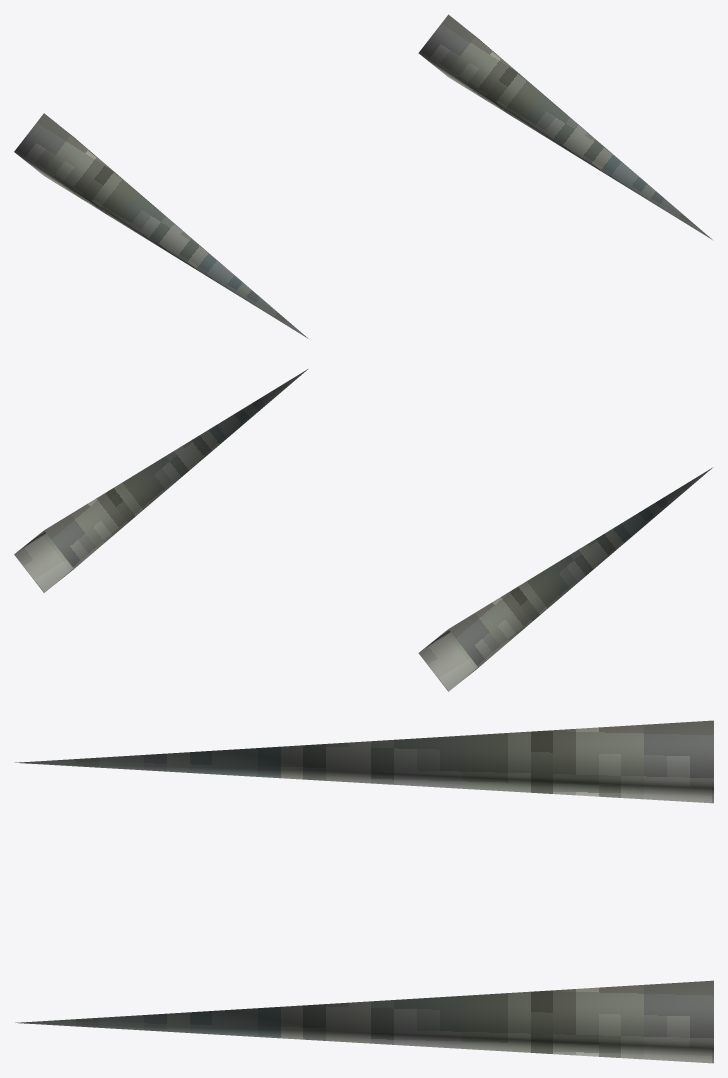
Rendered from hutt_fighter_heavy_weapon1_s01_l2.fbx.
3 renders of one model, top to bottom at view 1: azimuth 30°, elevation 25°; view 2: azimuth 150°, elevation 25°; view 3: azimuth 270°, elevation 25°, orthographic. The views are drawn at different scales.
Visible parts, largest first — view 1: mesh_node; view 2: mesh_node; view 3: mesh_node.
Boxes of the visible parts, x1=… form: mesh_node: x1=14, y1=14, x2=712, y2=338; mesh_node: x1=14, y1=369, x2=712, y2=691; mesh_node: x1=15, y1=720, x2=713, y2=1063.
Size of the model in its own units: 2.73 by 0.3534 by 2.7.
Materials: 1 (1 with a texture image).
